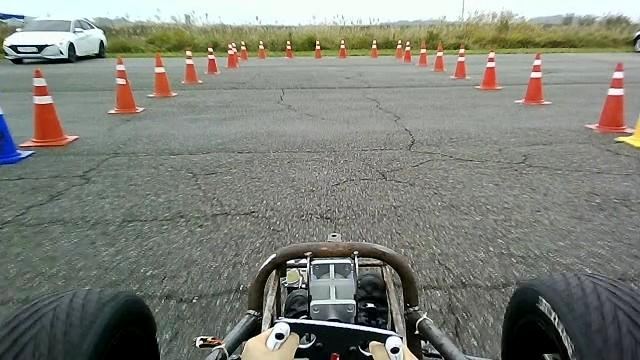red cone: (18, 68, 79, 147), (584, 61, 634, 133), (107, 55, 144, 113), (514, 52, 552, 105), (146, 52, 178, 98), (474, 49, 503, 90), (449, 43, 471, 80), (180, 49, 203, 84), (203, 47, 221, 75), (431, 42, 446, 74)
